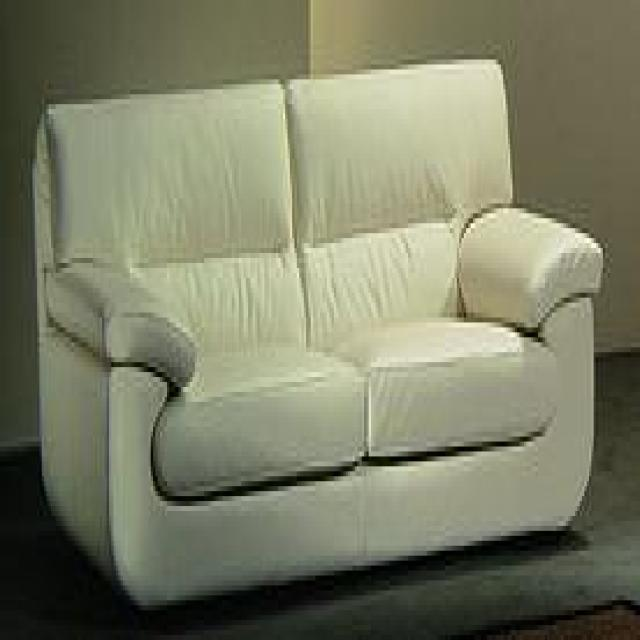sofa: (35, 56, 606, 615)
